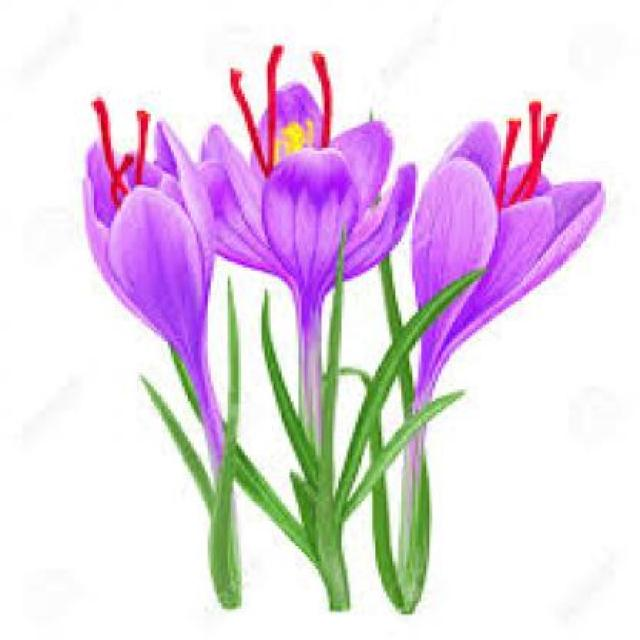Flower: (184, 77, 416, 326), (405, 114, 620, 363), (61, 119, 224, 366)
stigma: (512, 110, 571, 204), (260, 43, 288, 177), (89, 98, 126, 196), (228, 66, 259, 178), (306, 47, 339, 146), (521, 96, 550, 204), (493, 113, 523, 209), (128, 103, 156, 188)
